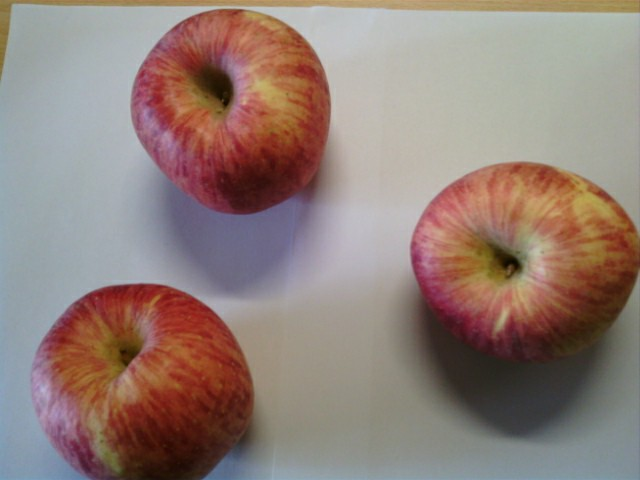normal_apple: (410, 159, 640, 364), (30, 283, 253, 480), (131, 8, 331, 217)
